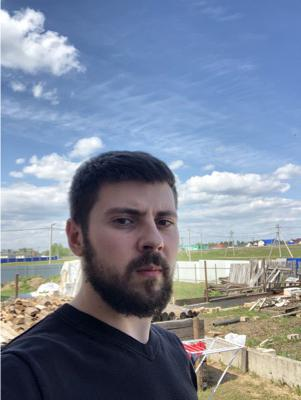without_mask: (91, 196, 179, 319)
